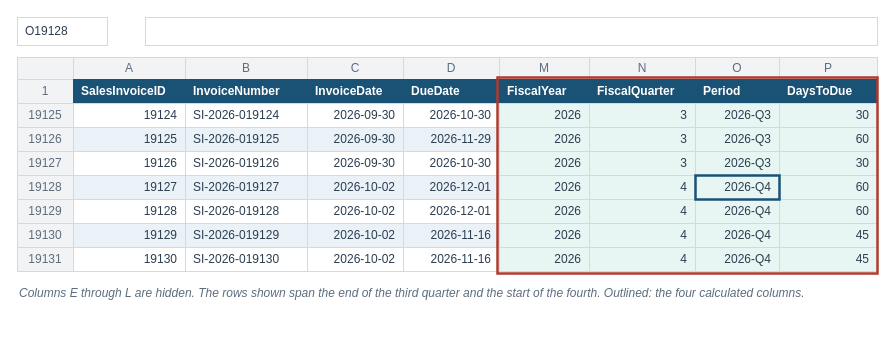
The diagram is 896 pixels wide and 339 high, and some of its shapes have lost their labels. Each missing label, with the centre of its shape:
=[@FiscalYear]&"-Q"&[@FiscalQuarter]: (511,31)
fx: (126,31)
